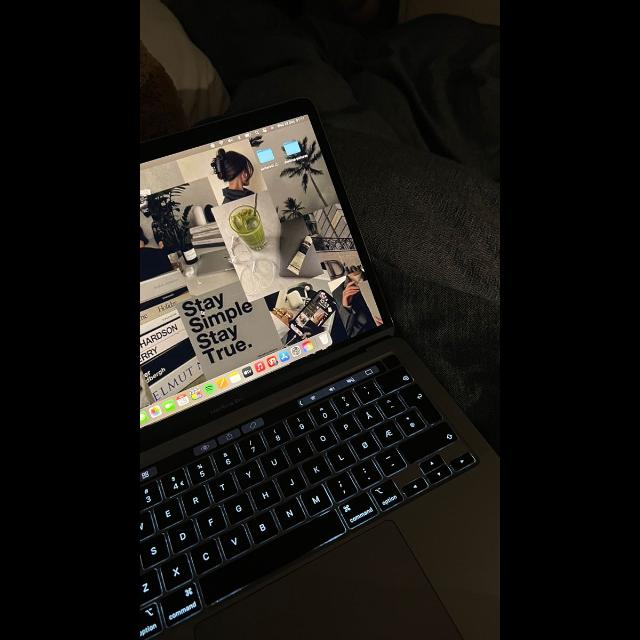laptop: (140, 98, 499, 639)
